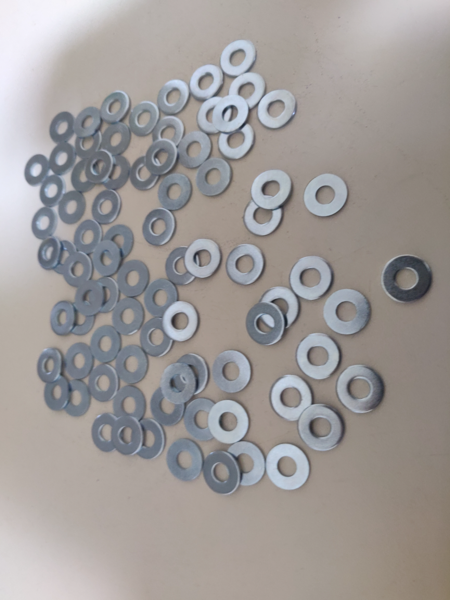circle: (382, 255, 433, 304), (337, 365, 385, 413), (297, 405, 346, 451), (324, 289, 373, 334), (297, 332, 341, 380), (266, 444, 310, 490), (290, 256, 334, 301), (270, 376, 315, 420), (305, 173, 348, 219), (209, 400, 251, 445), (225, 442, 267, 486), (246, 302, 286, 346), (260, 287, 300, 331), (226, 244, 266, 287), (258, 89, 299, 130), (252, 170, 294, 210), (213, 350, 252, 393), (244, 196, 284, 237), (203, 451, 240, 494), (160, 364, 199, 404), (167, 439, 203, 482), (185, 397, 220, 441), (185, 239, 223, 279), (163, 301, 199, 343), (173, 354, 209, 396), (150, 385, 186, 426), (140, 317, 176, 357), (218, 122, 256, 159), (230, 71, 267, 109), (221, 39, 257, 78), (165, 247, 201, 286), (131, 418, 166, 458), (213, 96, 250, 133), (197, 97, 233, 135), (197, 158, 232, 197), (141, 278, 176, 317), (112, 385, 147, 424), (158, 173, 193, 211), (115, 345, 149, 384), (177, 130, 211, 168), (143, 209, 177, 247), (111, 298, 145, 336), (111, 417, 144, 456), (92, 413, 124, 453), (190, 64, 224, 101), (117, 260, 151, 297), (89, 325, 122, 363), (158, 78, 191, 115), (153, 116, 186, 152), (145, 139, 178, 175), (103, 224, 134, 261), (92, 240, 122, 277), (89, 364, 119, 401), (61, 379, 90, 417), (128, 102, 161, 135), (99, 122, 131, 156), (130, 157, 161, 192), (90, 277, 120, 313), (75, 280, 105, 316), (51, 240, 81, 276), (101, 155, 131, 191), (100, 91, 131, 125), (64, 252, 94, 287), (92, 190, 122, 224), (66, 301, 95, 336), (64, 344, 93, 379), (72, 220, 101, 255), (44, 374, 71, 411), (71, 159, 101, 192), (58, 191, 87, 225), (37, 348, 64, 384), (50, 300, 76, 337), (85, 150, 114, 183), (73, 106, 101, 139), (75, 126, 102, 159), (31, 207, 58, 239), (40, 175, 66, 207), (24, 154, 50, 186), (50, 143, 76, 175), (38, 237, 62, 270), (50, 112, 75, 143)
